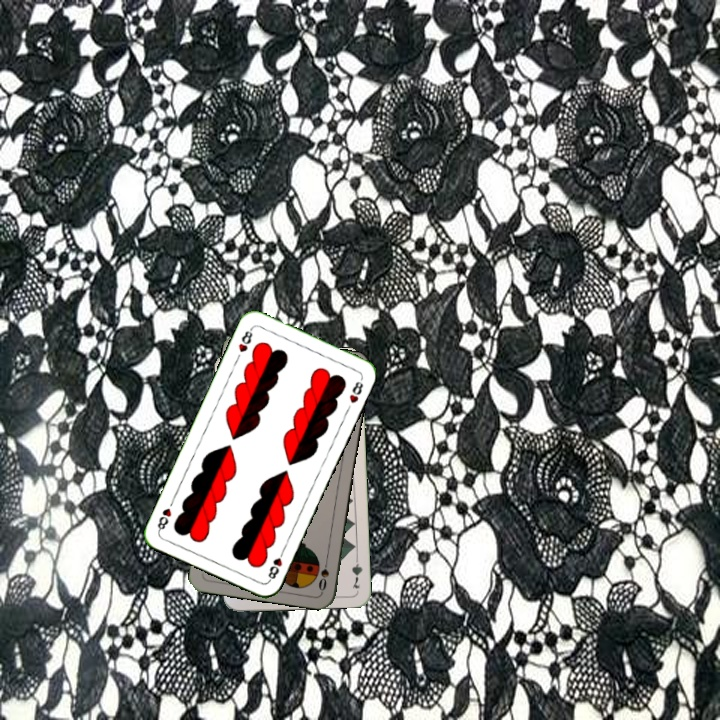G7: (348, 551, 365, 591)
H8: (264, 545, 287, 584), (234, 324, 256, 355)
SO: (314, 553, 331, 593)
